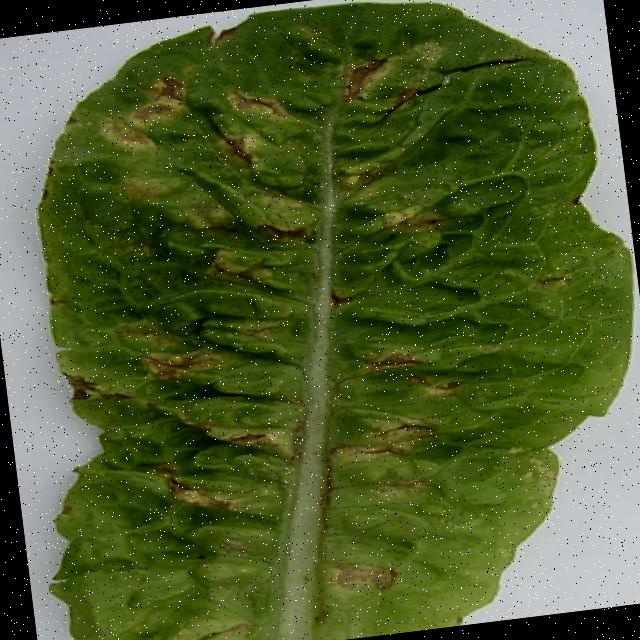Downy_mildew_on_lettuce: (37, 3, 493, 640)
